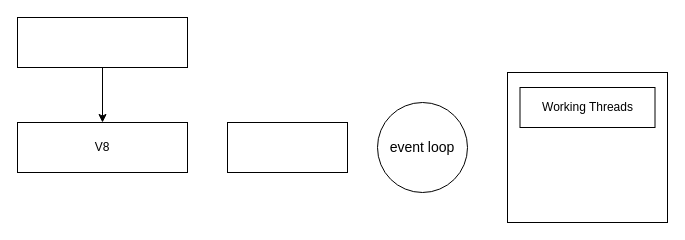
Some shapes in this 685 by 240 pixel diagram are drawn without their labels. Here are the shapes that lost their labels. From the top down, the centre of each, then its label:
point (102, 42): 用户的 JavaScript 代码
point (287, 147): node binding
